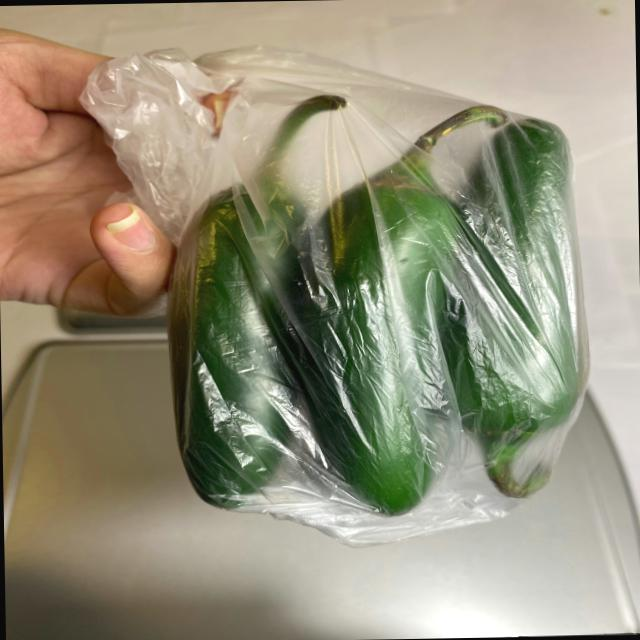chilli: (144, 72, 596, 527)
